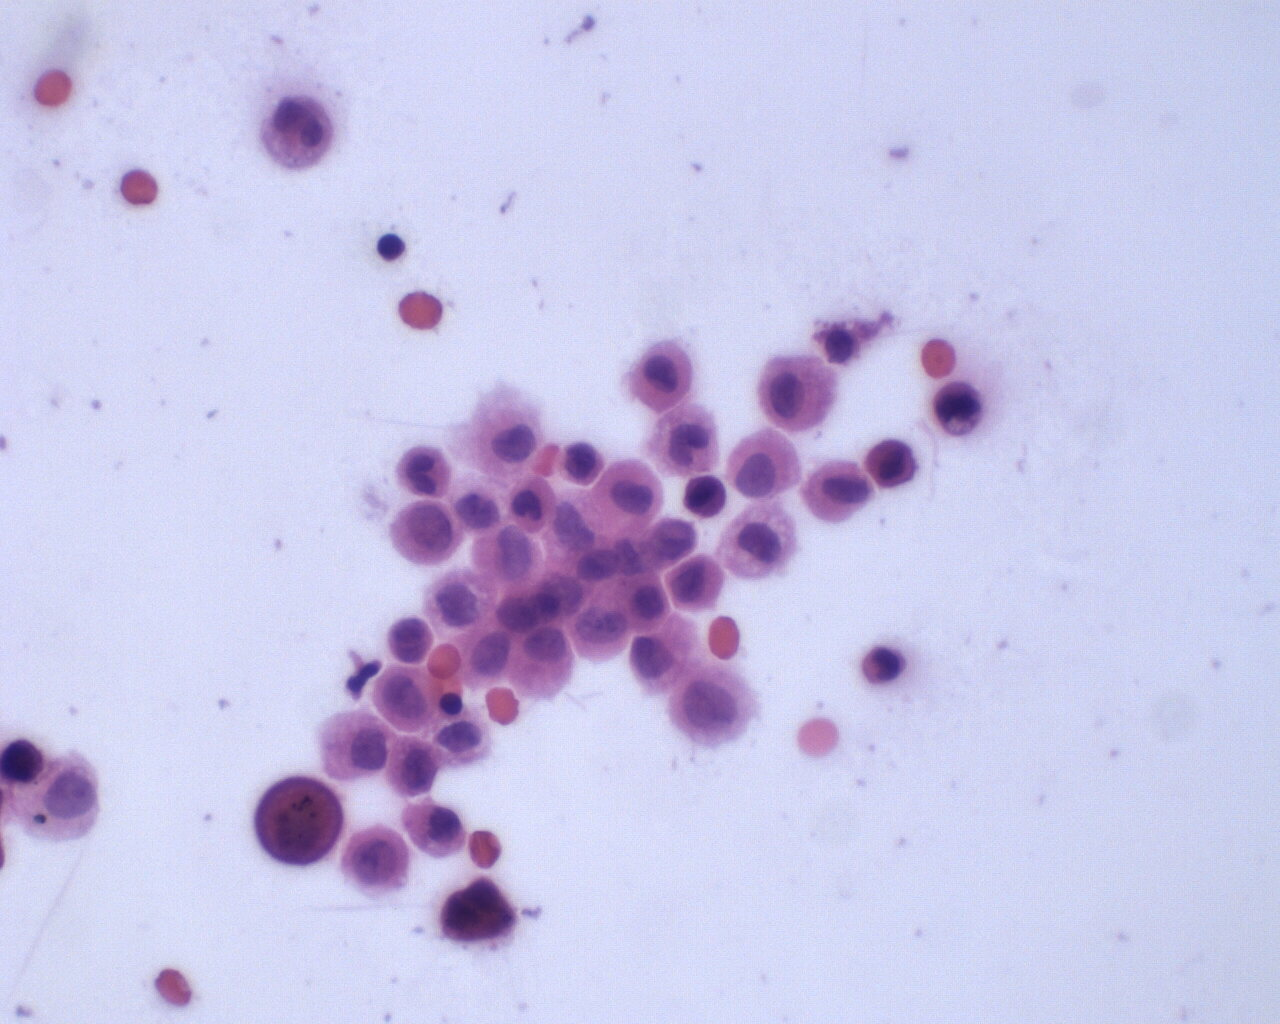lymph: (374, 229, 413, 265)
meso: (753, 347, 839, 439), (317, 707, 394, 781), (592, 458, 666, 532), (506, 627, 576, 701), (631, 340, 699, 416), (612, 564, 670, 630)
